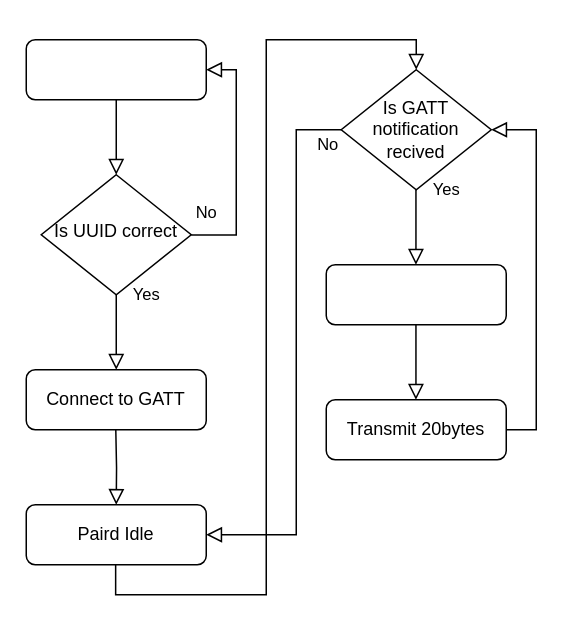
The diagram is 578 pixels wide and 636 high, and some of its shapes have lost their labels. Here are the shapes that lost their labels. From the top down, the centre of each, then its label:
At [115,69]: "Start BLE Advertising".
At [415,294]: "Read GATT variable".
